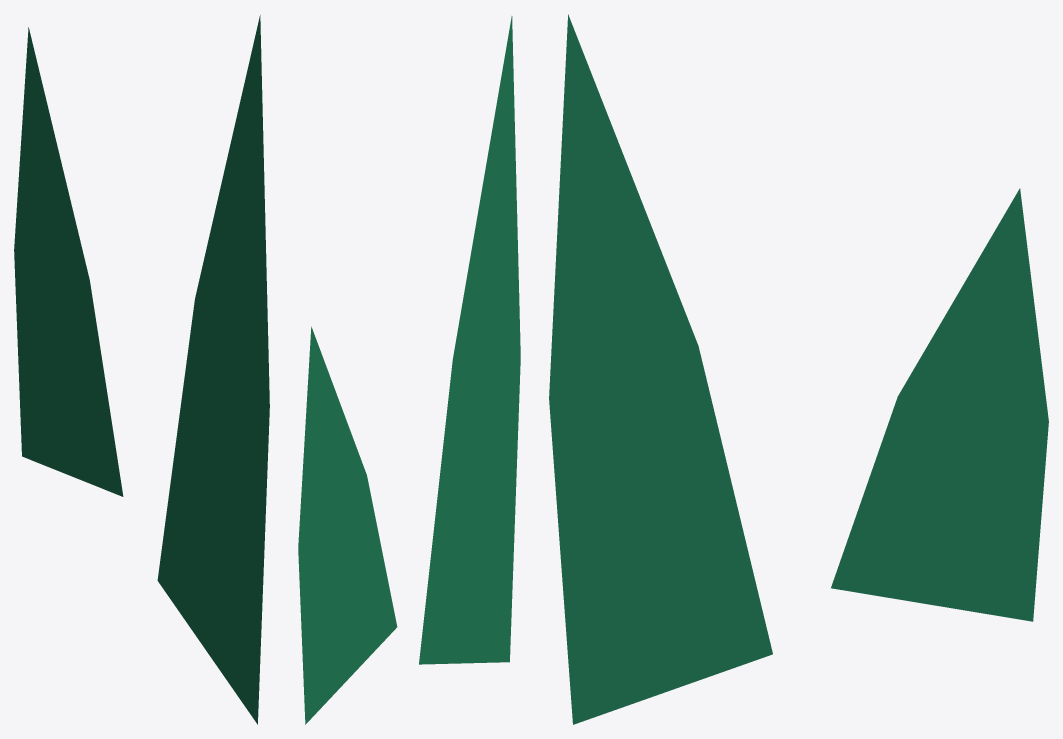
Rendered from grass_2.glb.
The picture shows the model from 3 angles, left to right: view 1: azimuth 30°, elevation 25°; view 2: azimuth 150°, elevation 25°; view 3: azimuth 270°, elevation 25°; orthographic projection. The views are drawn at different scales.
Visible parts, largest first — view 1: Grass2; view 2: Grass2; view 3: Grass2.
Part boxes in pixels (x1=…): Grass2: x1=14, y1=15, x2=269, y2=724; Grass2: x1=298, y1=16, x2=520, y2=724; Grass2: x1=549, y1=14, x2=1048, y2=724.
Bounding box in the file's own units: 0.0111 × 1.45 × 0.923.
Materials: 1 (1 with a texture image).
